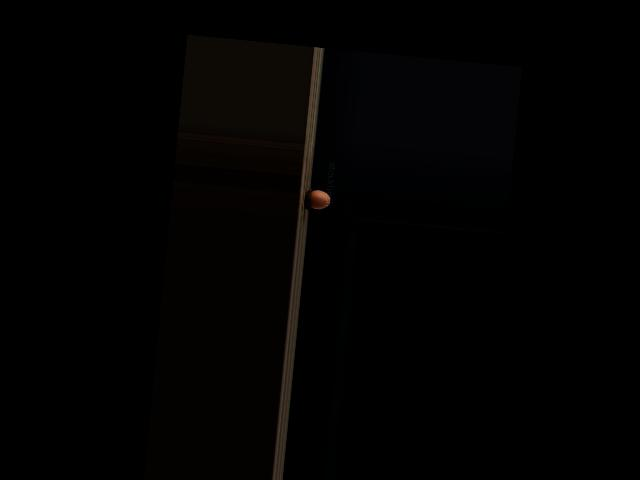egg: (308, 190, 331, 210)
